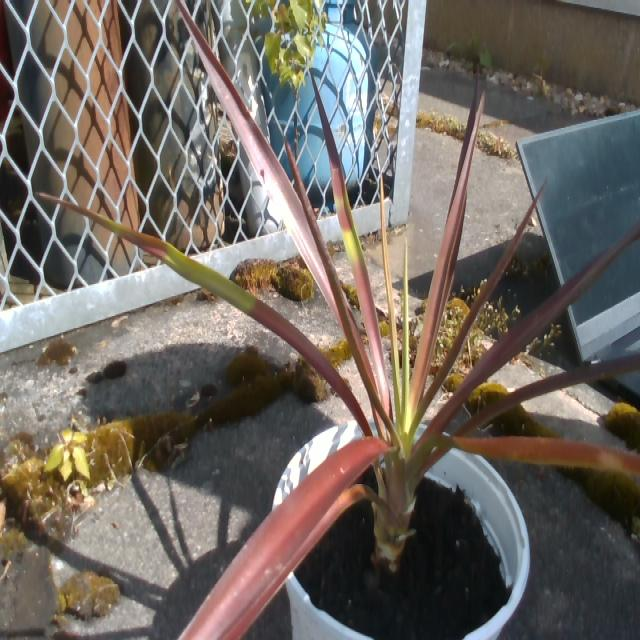Yucca-aloifolia: (40, 193, 369, 432), (175, 0, 345, 327), (180, 437, 388, 639), (436, 223, 639, 428), (285, 139, 396, 440), (312, 79, 390, 415), (418, 195, 539, 408), (409, 112, 477, 408), (459, 355, 639, 435), (267, 484, 373, 603), (440, 436, 639, 475), (381, 203, 398, 423), (402, 244, 409, 432)
